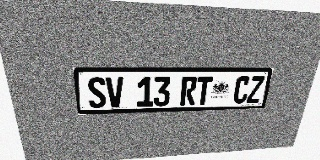1: (137, 77, 154, 107)
3: (153, 76, 170, 106)
C: (232, 76, 251, 104)
R: (180, 76, 197, 105)
S: (87, 77, 107, 108)
T: (195, 76, 213, 105)
V: (105, 77, 124, 108)
Z: (246, 76, 265, 103)
